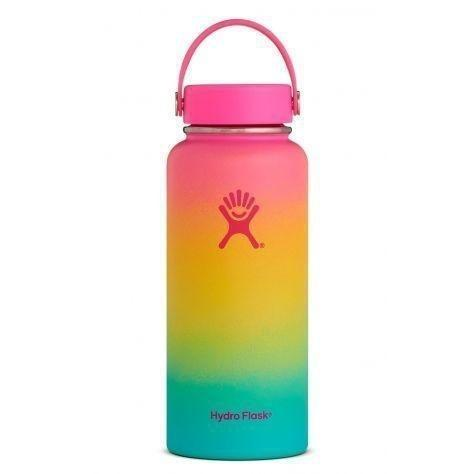gym bottle: (163, 18, 310, 462)
